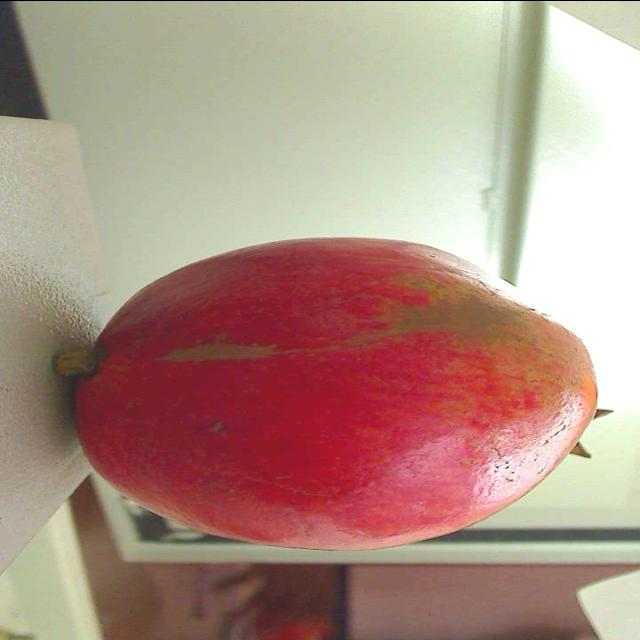pomegranate: (46, 218, 640, 562)
